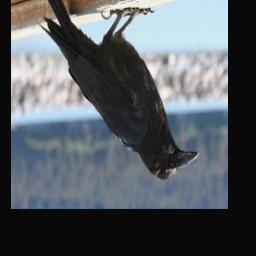Crow: (39, 0, 200, 182)
